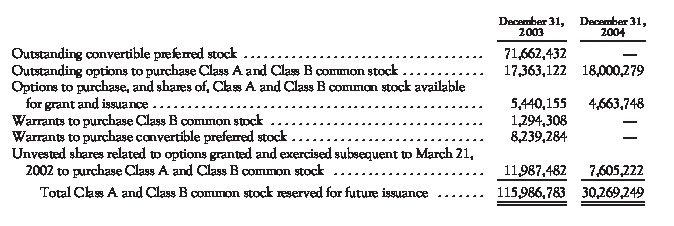table: (0, 0, 674, 226)
